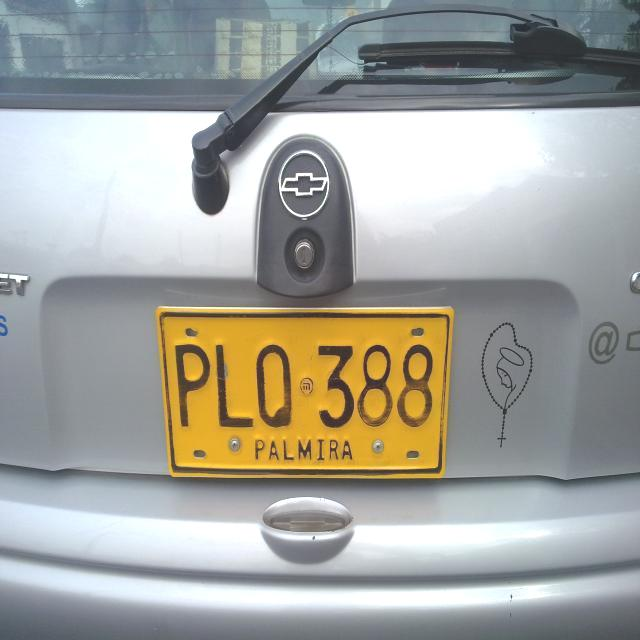placa: (154, 301, 456, 483)
